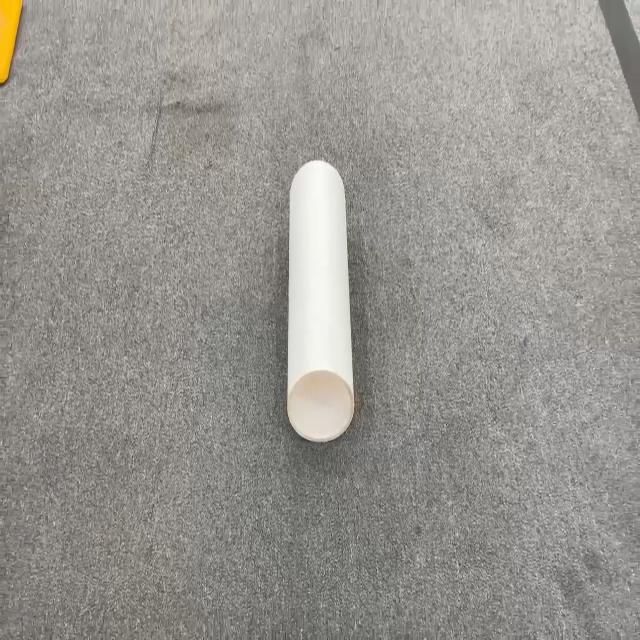coral: (285, 158, 355, 443)
